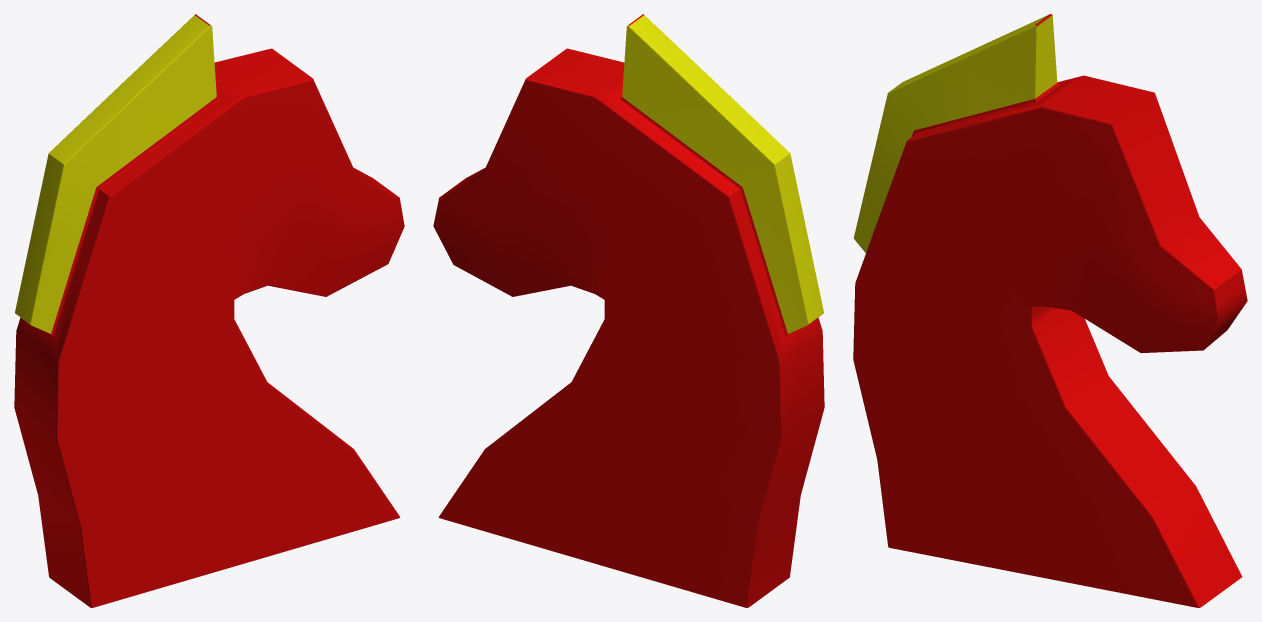
The model's file is HorsePoint.fbx.
3 views of the same model, side by side, from view 1: azimuth 30°, elevation 25°; view 2: azimuth 150°, elevation 25°; view 3: azimuth 330°, elevation 25° (orthographic).
Parts seen in each view (by area): view 1: HorseChangeThisColor; view 2: HorseChangeThisColor; view 3: HorseChangeThisColor.
Boxes of the visible parts, <box> form: HorseChangeThisColor: <box>14,14,404,607</box>; HorseChangeThisColor: <box>433,14,824,607</box>; HorseChangeThisColor: <box>853,14,1247,607</box>.
Size of the model in its own units: 1.02 by 1.43 by 0.2071.
